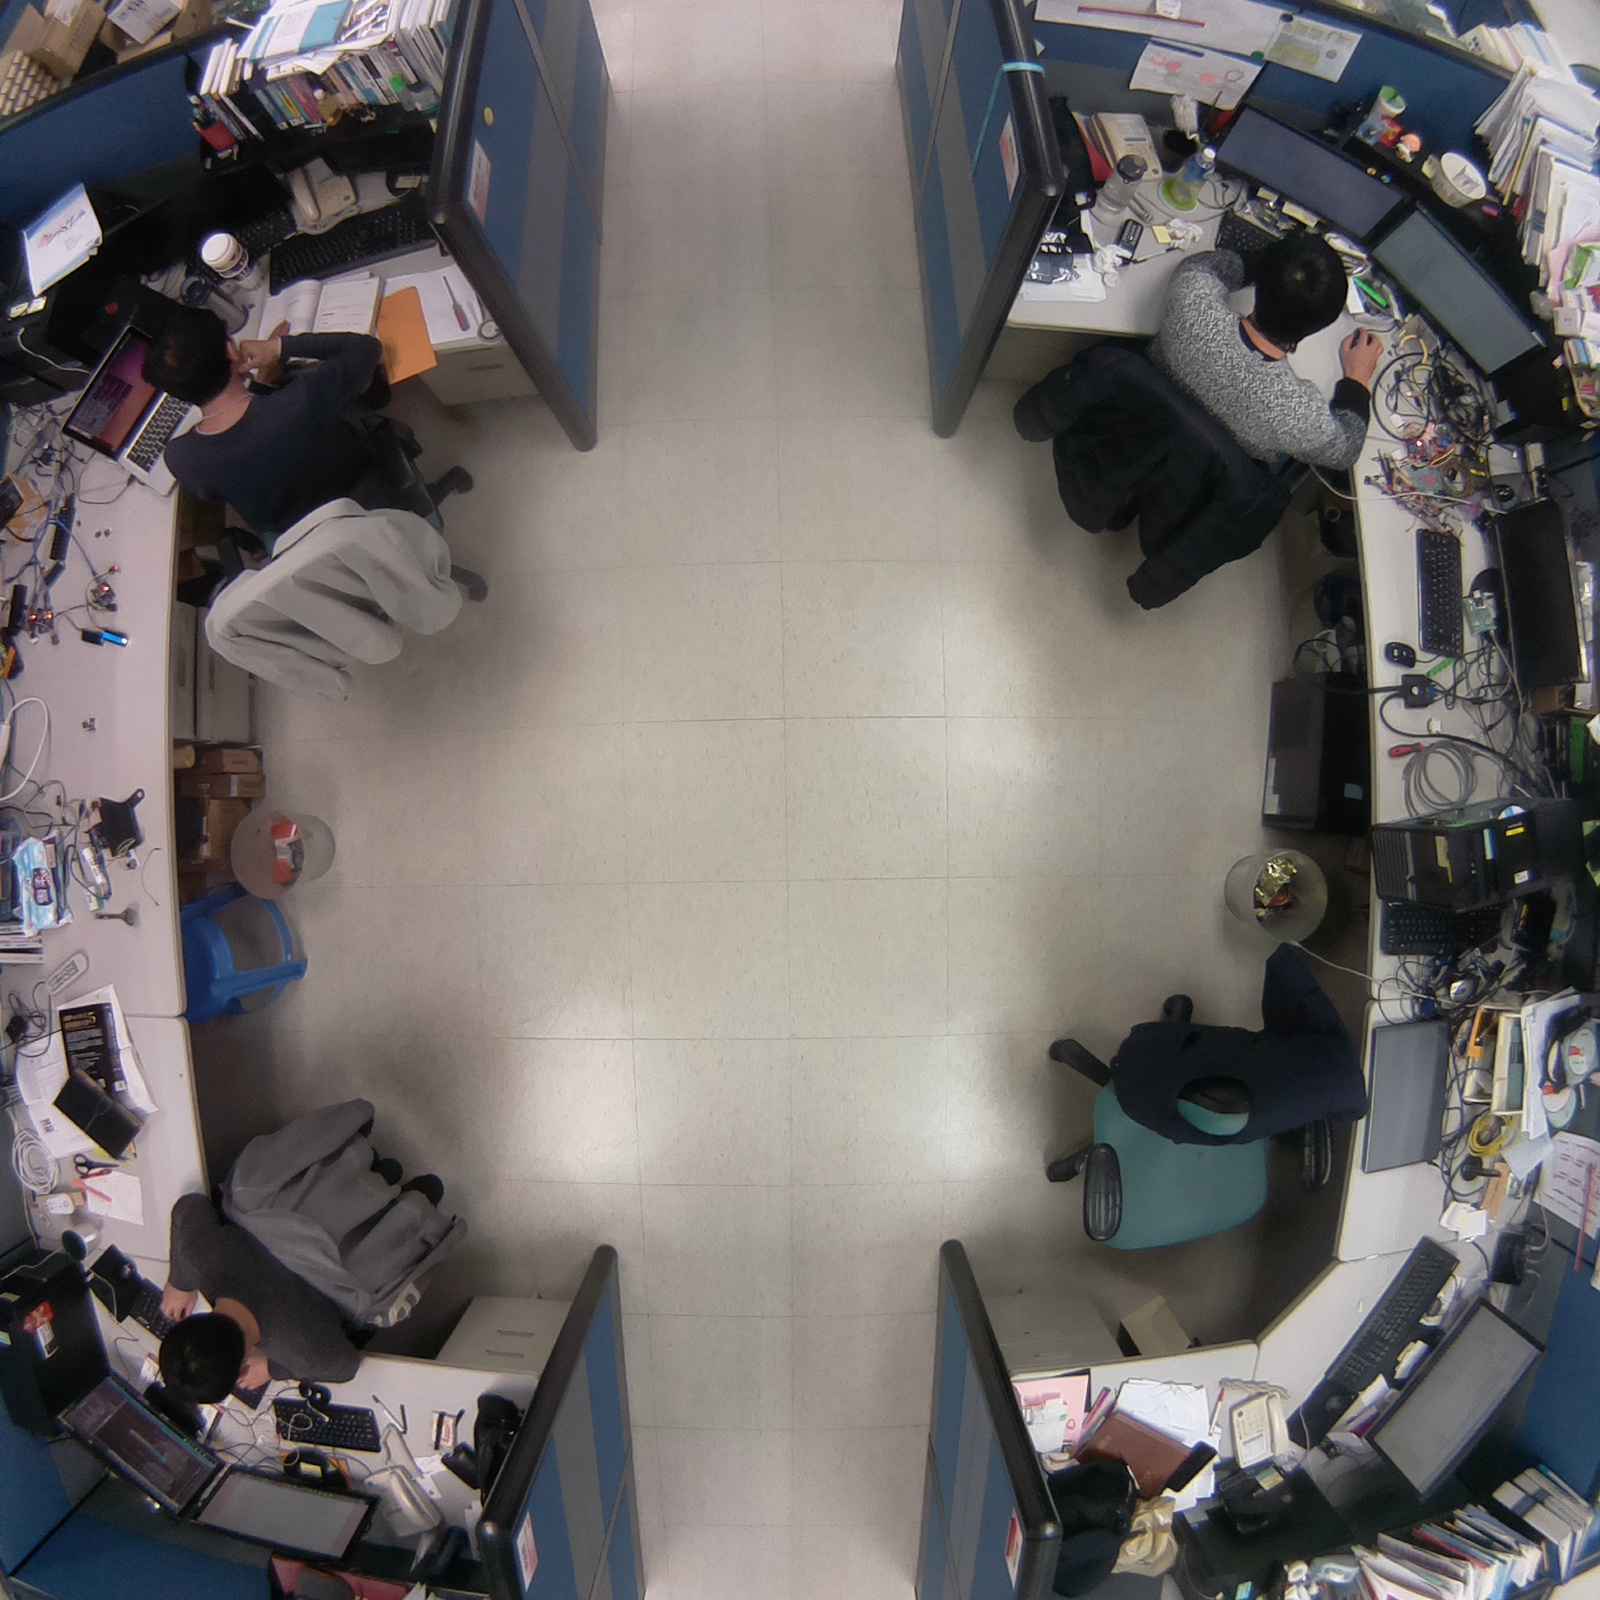chair: (1023, 982, 1389, 1289)
sitting: (986, 217, 1411, 629), (119, 296, 514, 708), (138, 1081, 497, 1436)
